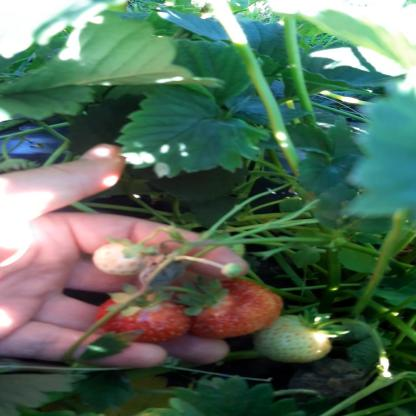ripe: (189, 277, 281, 338), (94, 289, 192, 344)
unripe: (255, 316, 334, 366), (86, 241, 155, 278)
